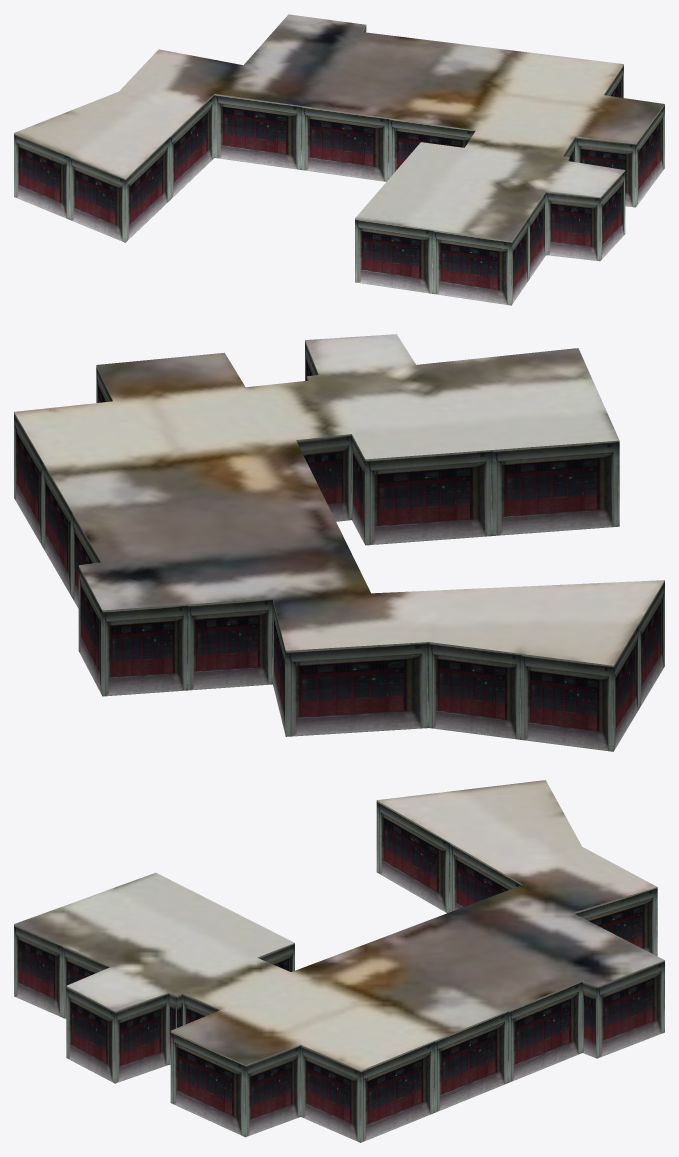
The model's file is T_1SX4U4NVQT.dae.
The picture shows the model from 3 angles, top to bottom: view 1: azimuth 30°, elevation 25°; view 2: azimuth 150°, elevation 25°; view 3: azimuth 270°, elevation 25°; orthographic projection. The views are drawn at different scales.
Parts seen in each view (by area): view 1: SketchUp (×10); view 2: SketchUp (×11); view 3: SketchUp (×14).
Boxes of the visible parts, x1,y1,x2,y2 form: SketchUp (×10): (14, 14, 664, 305); SketchUp (×11): (14, 334, 664, 751); SketchUp (×14): (14, 780, 664, 1142).
Size of the model in its own units: 29.69 by 28.1 by 3.44.
2 materials, 2 textured.
